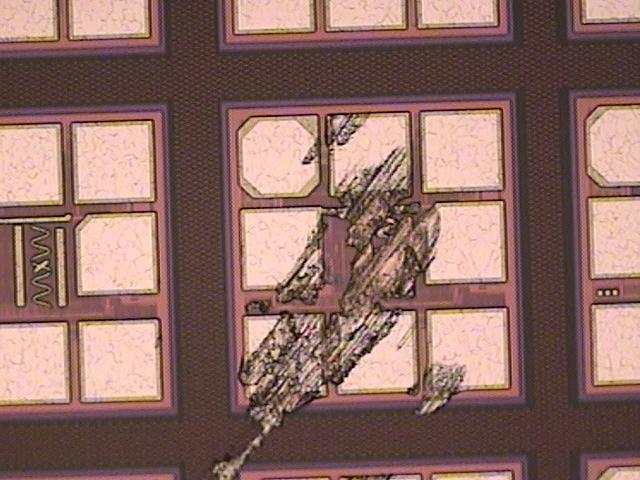SCRATCH: (213, 102, 475, 480)
